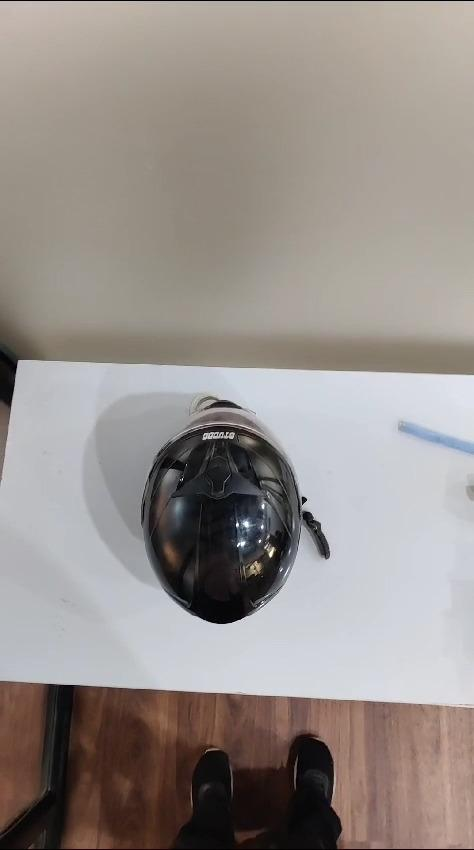Helmet: (141, 395, 329, 622)
